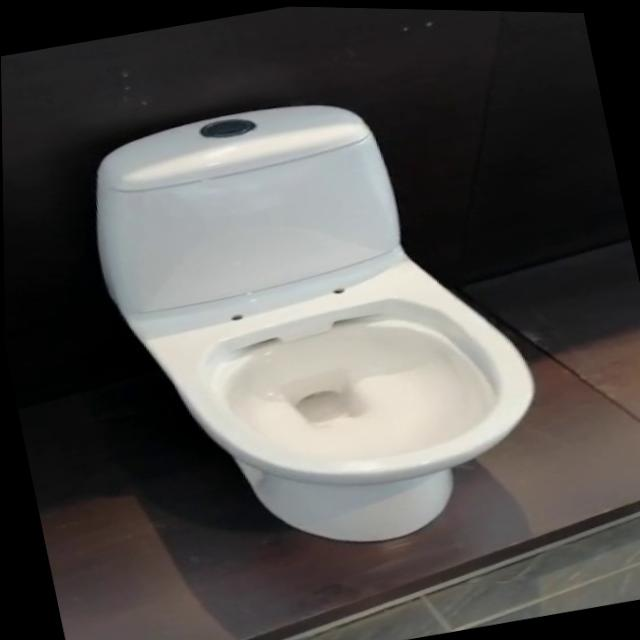toilet: (74, 62, 563, 584)
